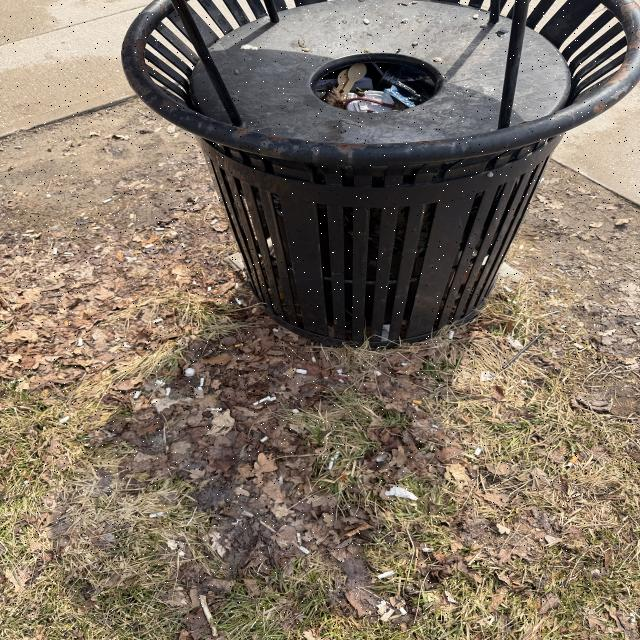Dustbin: (123, 0, 640, 352)
